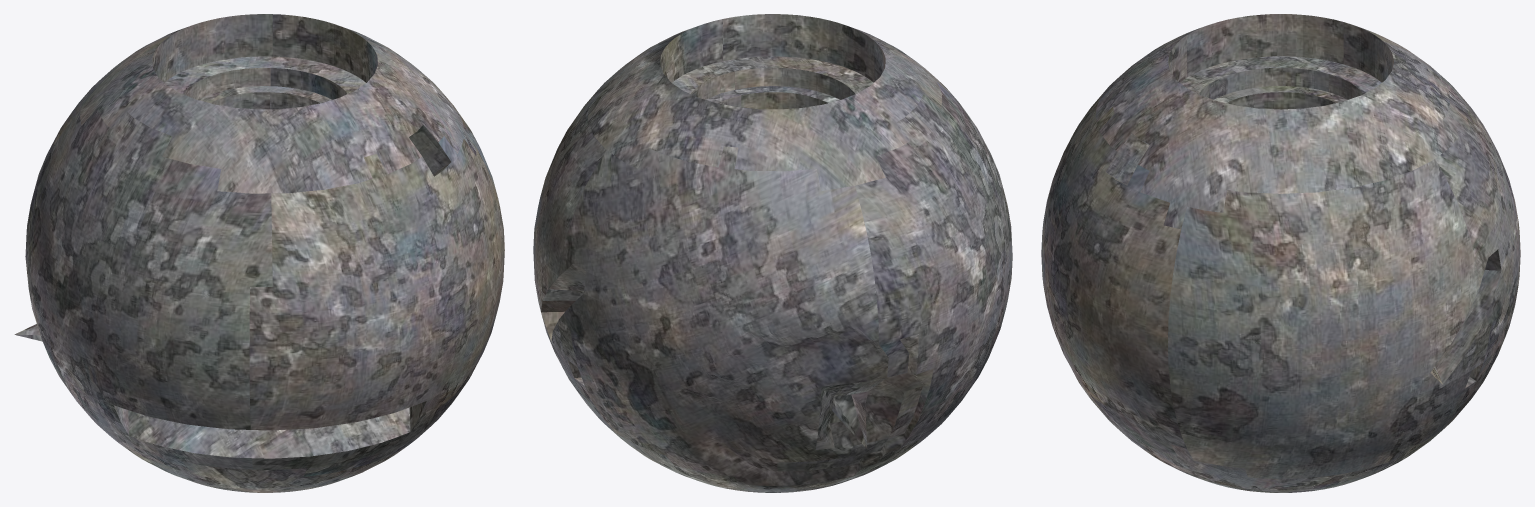
File: deathstar.obj
The picture shows the model from 3 angles, left to right: view 1: azimuth 30°, elevation 25°; view 2: azimuth 150°, elevation 25°; view 3: azimuth 270°, elevation 25°; orthographic projection.
Parts seen in each view (by area): view 1: Cube; view 2: Cube; view 3: Cube.
Boxes of the visible parts, x1=… form: Cube: x1=14, y1=14, x2=504, y2=492; Cube: x1=533, y1=14, x2=1012, y2=492; Cube: x1=1041, y1=14, x2=1520, y2=492.
Size of the model in its own units: 48.72 by 45.89 by 48.72.
